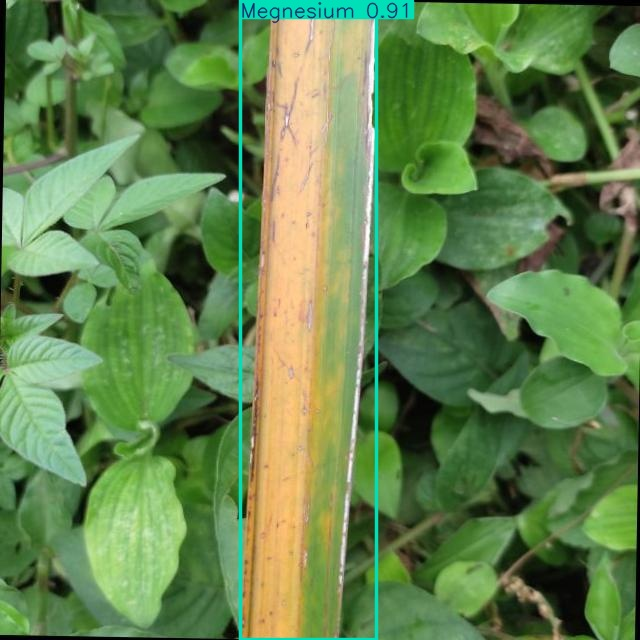Megnesium: (241, 0, 377, 640)
